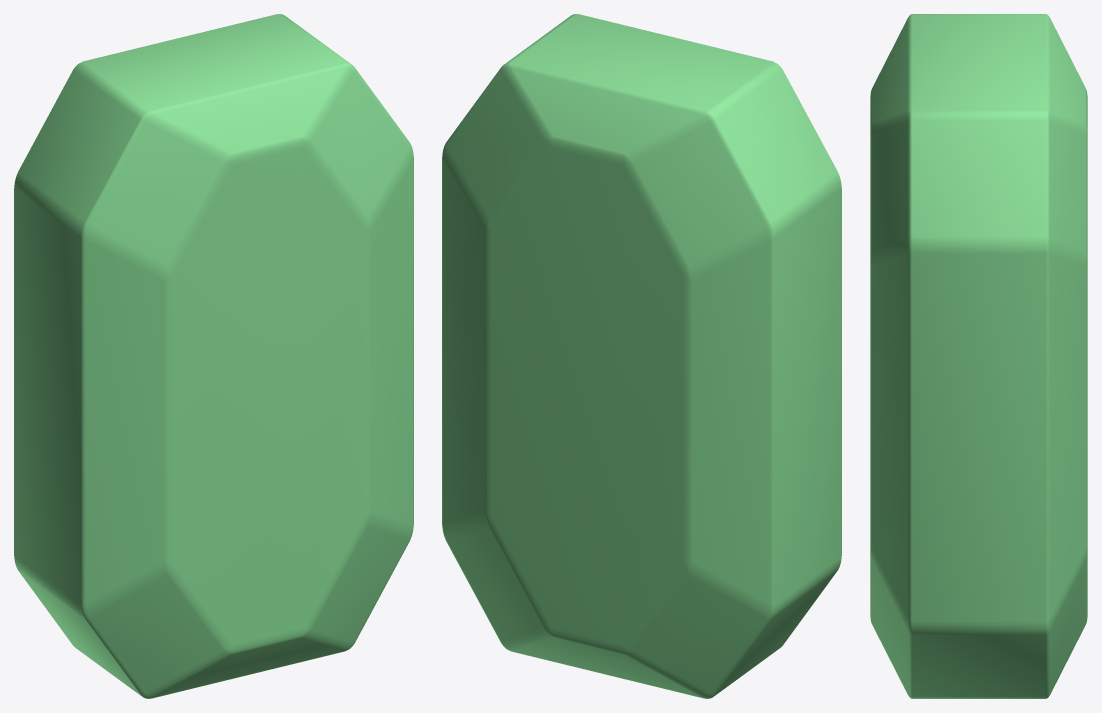
Rendered from emerald.fbx.
The picture shows the model from 3 angles, left to right: view 1: azimuth 30°, elevation 25°; view 2: azimuth 150°, elevation 25°; view 3: azimuth 270°, elevation 25°; orthographic projection.
Parts seen in each view (by area): view 1: emerald; view 2: emerald; view 3: emerald.
Boxes of the visible parts, box(x1,y1,x2,y2) form: emerald: box(14, 14, 413, 698); emerald: box(442, 14, 841, 698); emerald: box(870, 14, 1087, 698).
Bounding box in the file's own units: 134 × 227 × 75.95.
